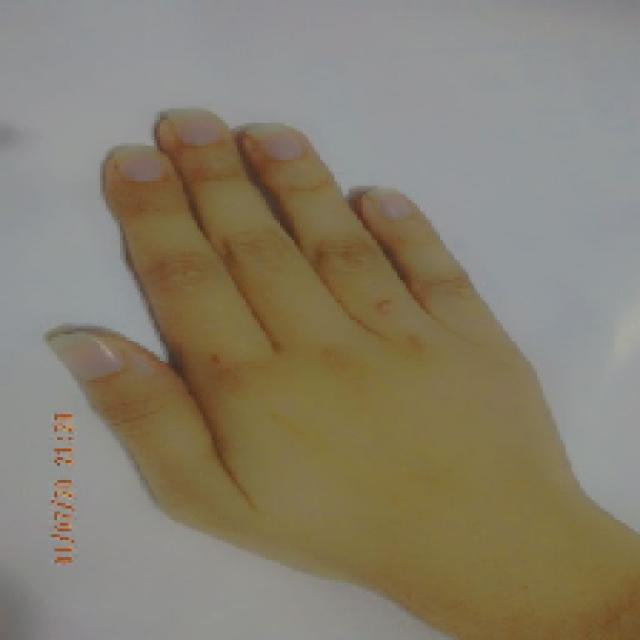Nail: (49, 327, 124, 381), (247, 121, 308, 159), (110, 143, 170, 181), (165, 107, 222, 145), (368, 188, 412, 220)
